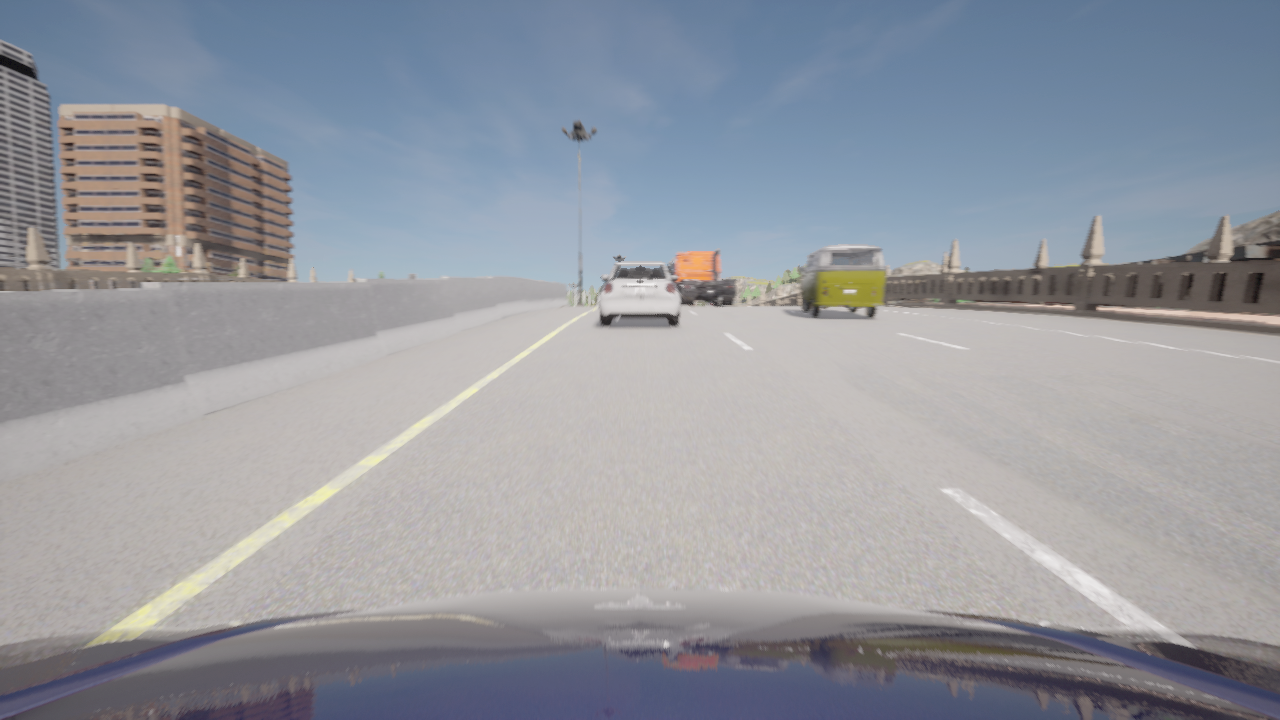cyclist: (0, 588, 1279, 719), (801, 246, 885, 317), (599, 262, 680, 326), (668, 250, 736, 306), (706, 301, 711, 306)
